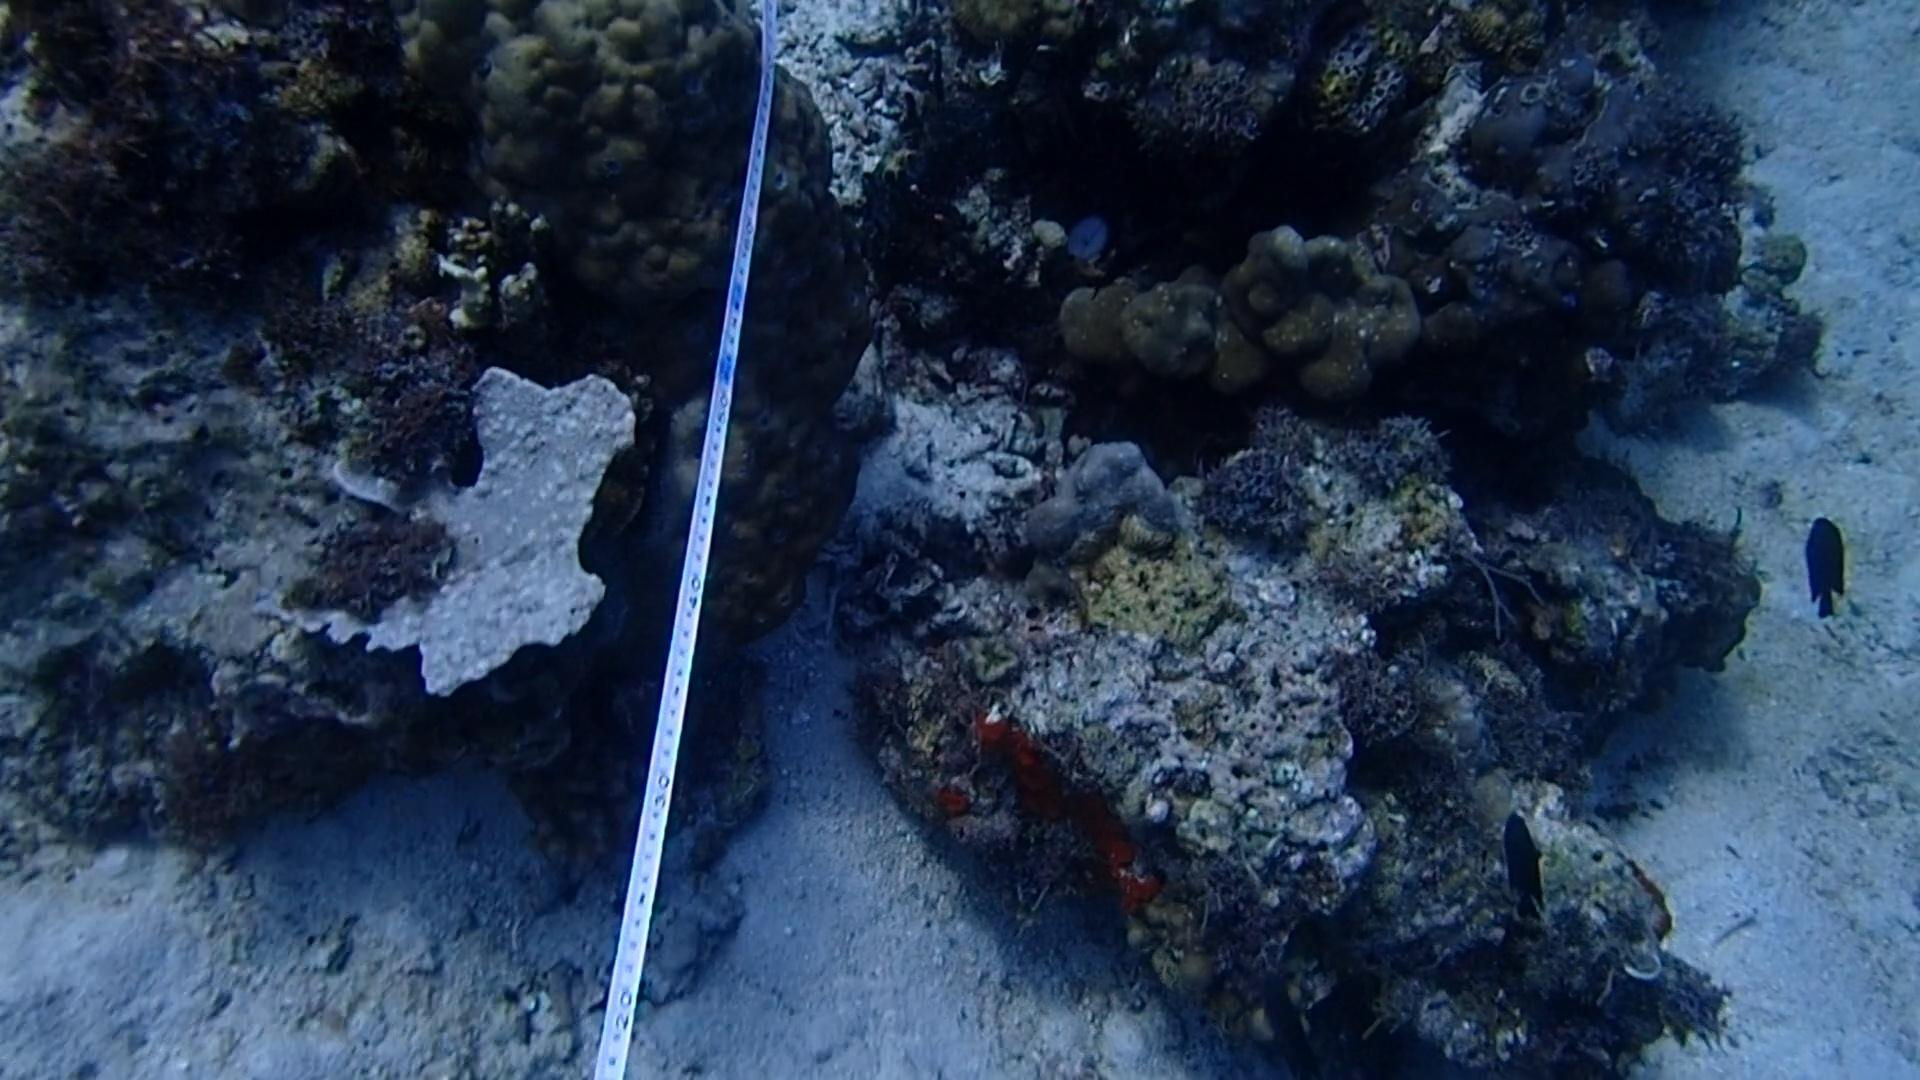Dark Fish: (1469, 803, 1576, 939), (1784, 505, 1854, 630)
